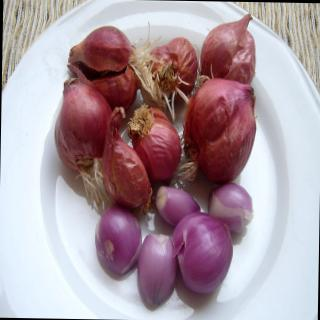Bawang Merah: (51, 10, 260, 313)
